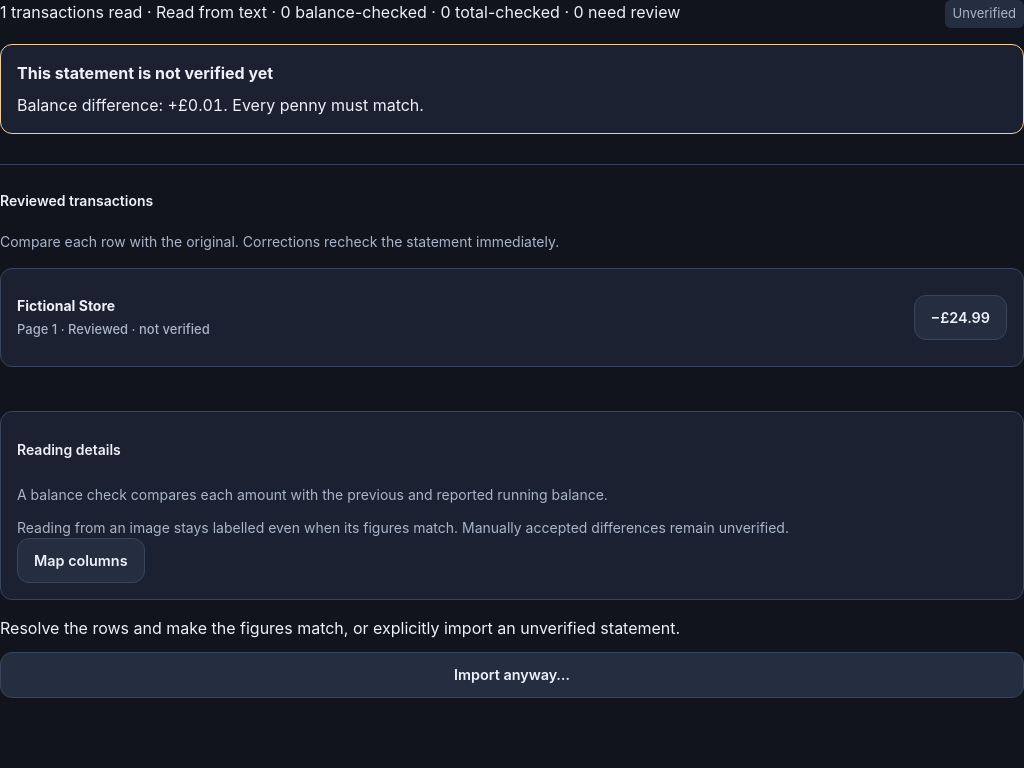
Scenario: generic PDF evidence review › keeps a manually corrected row accessible for another edit when totals still differ
Expected: the heading "Reviewed transactions" is shown, [0,192,153,209]
What coordinates should you click on to do the following:
click the button "−£24.99"
I would click on:
 (960, 317)
Its box is [914,294,1007,340].
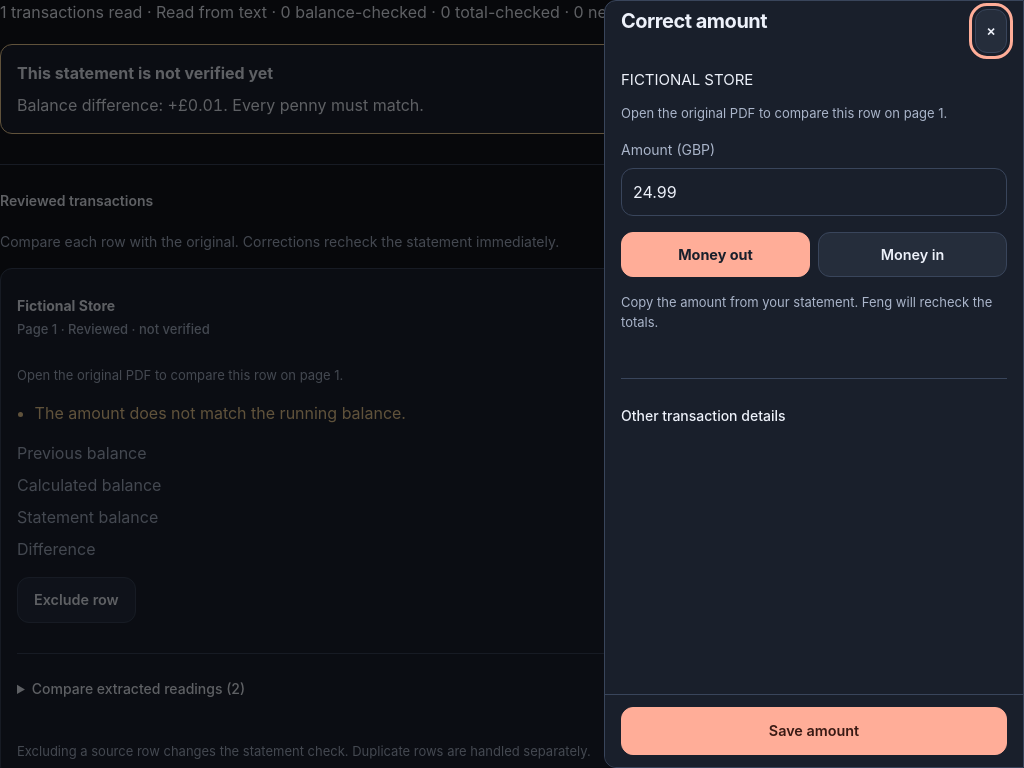
Expected: the dialog "Correct amount" is shown, [604,0,1023,767]
Expected: the field labelled "Amount (GBP)" holds "24.99", [621,168,1007,216]
